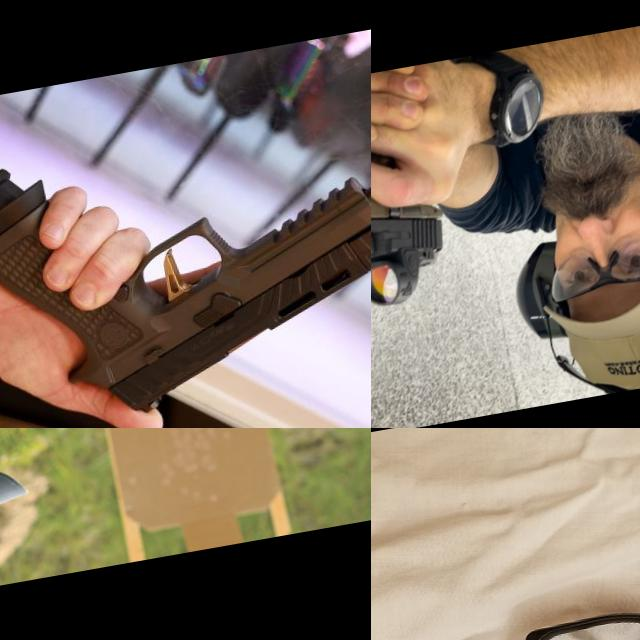handgun: (0, 94, 371, 428), (371, 428, 640, 640), (371, 122, 489, 332), (100, 428, 204, 480)
